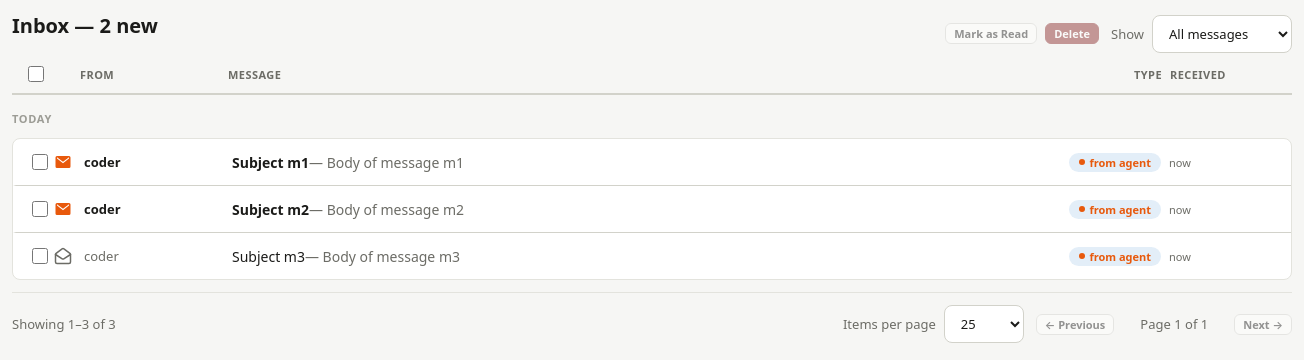
Test: bulk actions › bulk mark-read only touches unread selected messages
The width and height of the screenshot is (1304, 360).
Expected: the heading "Inbox — 2 new" is shown, left=12, top=12, right=158, bottom=39
What coordinates should you click on to do the following:
click the checkbox named "Select message: Subject m1"
I would click on:
 (40, 162)
Its box is left=32, top=154, right=48, bottom=170.
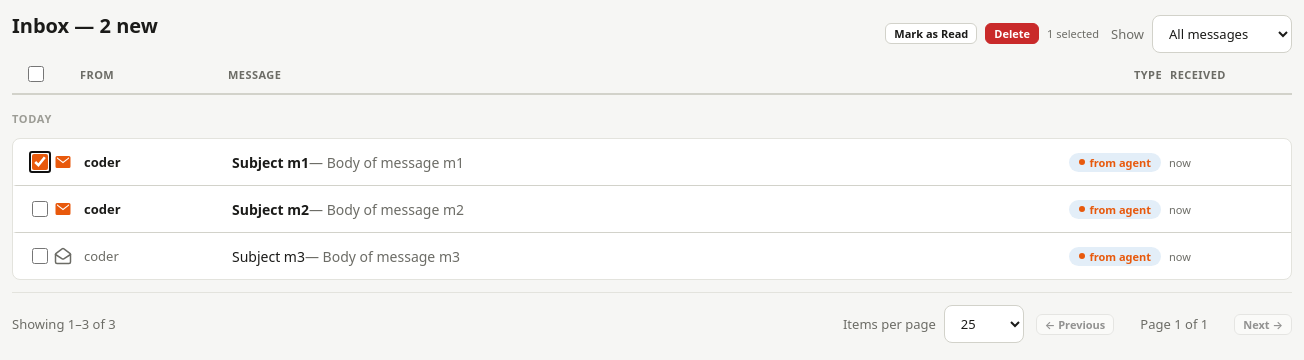
What coordinates should you click on to do the following:
click the checkbox named "Select message: Subject m3"
I would click on:
 (40, 256)
Its box is left=32, top=248, right=48, bottom=264.
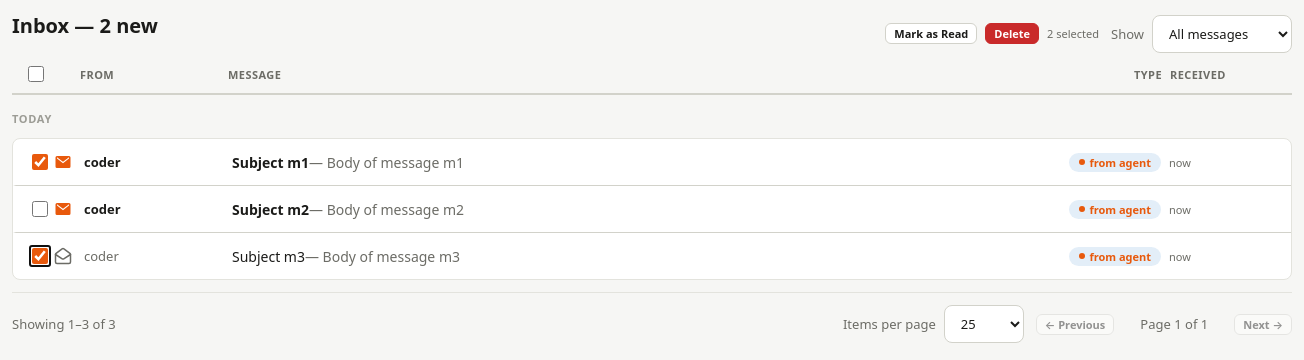
Expected: the text "2 selected" is shown, left=1047, top=26, right=1099, bottom=41
What coordinates should you click on to do the following:
click the button with aria-label "Mark 2 selected as read"
I would click on:
 (931, 34)
Its box is left=885, top=23, right=977, bottom=44.
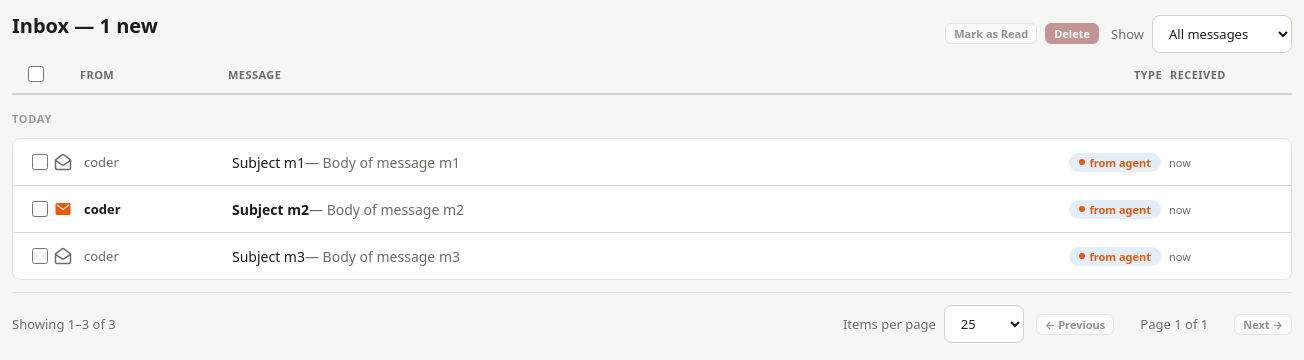
Expected: the button with aria-label "Mark 0 selected as read" is disabled, left=945, top=23, right=1037, bottom=44
